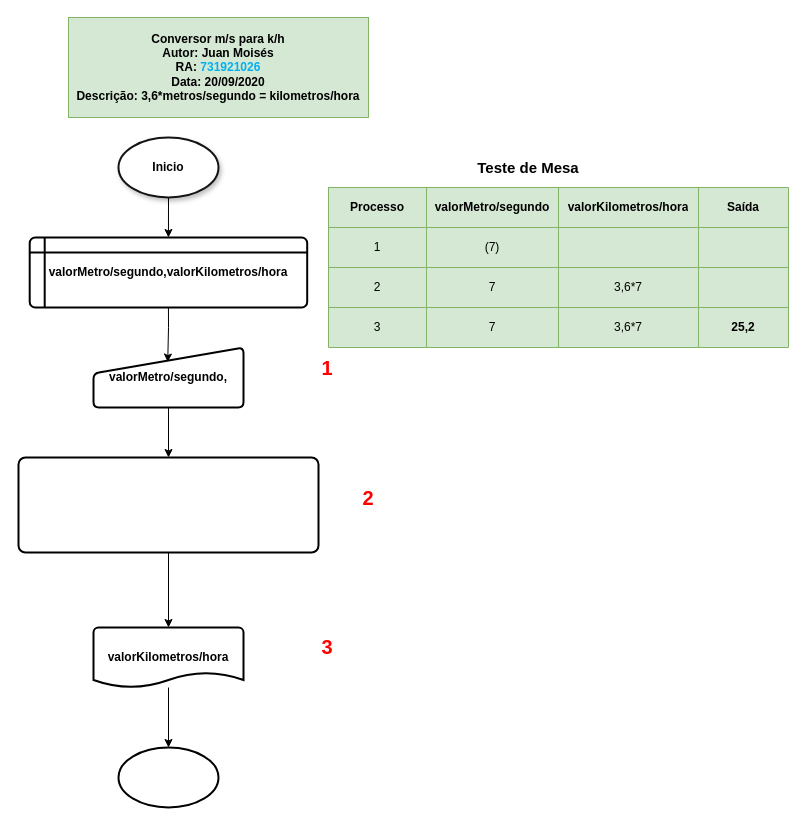
The diagram is 806 pixels wide and 826 high, and some of its shapes have lost their labels. Here are the shapes that lost their labels. From the top down, the centre of each, then its label:
[168,504]: valorKilometros/hora = 3,6*valorMetro/segundo,
[168,777]: Fim
